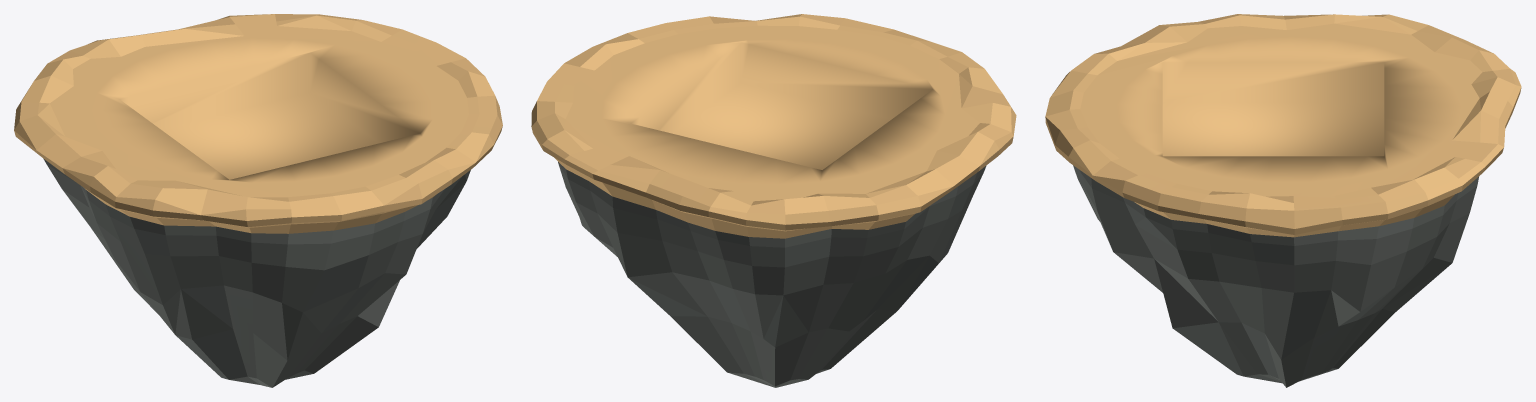
The model's file is Island5x5.fbx.
The picture shows the model from 3 angles, left to right: view 1: azimuth 30°, elevation 25°; view 2: azimuth 150°, elevation 25°; view 3: azimuth 270°, elevation 25°; orthographic projection.
Visible parts, largest first — view 1: Island; view 2: Island; view 3: Island.
Boxes of the visible parts, bbox=[...] form: Island: bbox=[14, 14, 502, 387]; Island: bbox=[531, 14, 1016, 387]; Island: bbox=[1045, 14, 1521, 387].
Size of the model in its own units: 2172 by 1413 by 2147.
